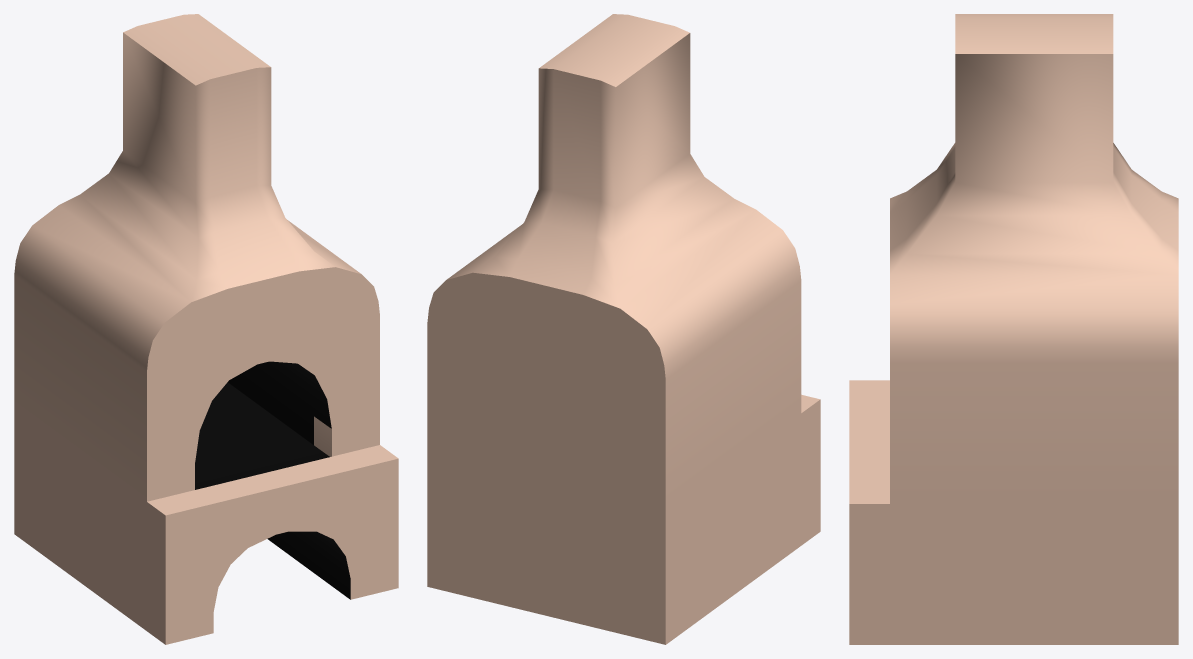
Rendered from model_oven.FBX.
3 renders of one model, left to right at view 1: azimuth 30°, elevation 25°; view 2: azimuth 150°, elevation 25°; view 3: azimuth 270°, elevation 25°, orthographic. The views are drawn at different scales.
Visible parts, largest first — view 1: Object003; view 2: Object003; view 3: Object003.
Part boxes in pixels (x1,y1,x2,y2): Object003: (14, 14, 398, 644); Object003: (427, 14, 820, 644); Object003: (849, 14, 1178, 644).
Size of the model in its own units: 39.99 by 83.16 by 44.96.
